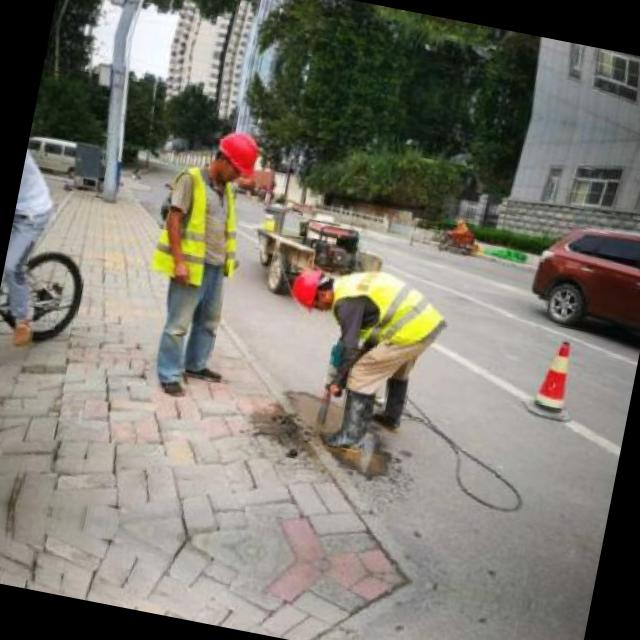helmet: (206, 124, 268, 192), (282, 264, 342, 314)
